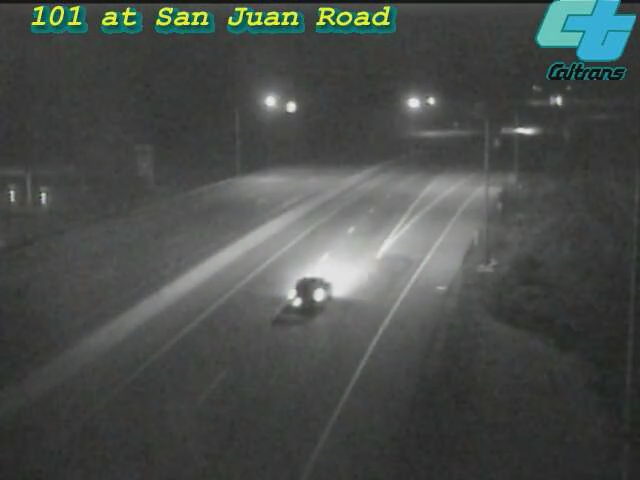vehicle: (269, 253, 349, 333), (498, 105, 548, 155)
